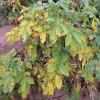Potato leaf early blight: (49, 28, 58, 45), (59, 64, 70, 76), (65, 31, 72, 47), (32, 25, 44, 33), (71, 37, 77, 52), (60, 26, 69, 36), (18, 25, 26, 36), (47, 63, 57, 71), (82, 54, 86, 71), (26, 24, 32, 35), (5, 30, 15, 36), (40, 33, 46, 43), (84, 46, 92, 53), (49, 57, 57, 64), (78, 52, 84, 61), (16, 15, 25, 20), (19, 21, 27, 26), (28, 21, 34, 26)
